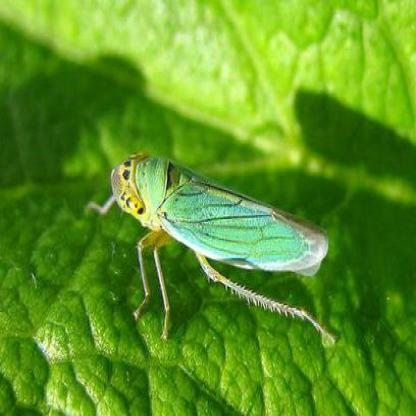Green-Leafhopper: (94, 149, 342, 349)
